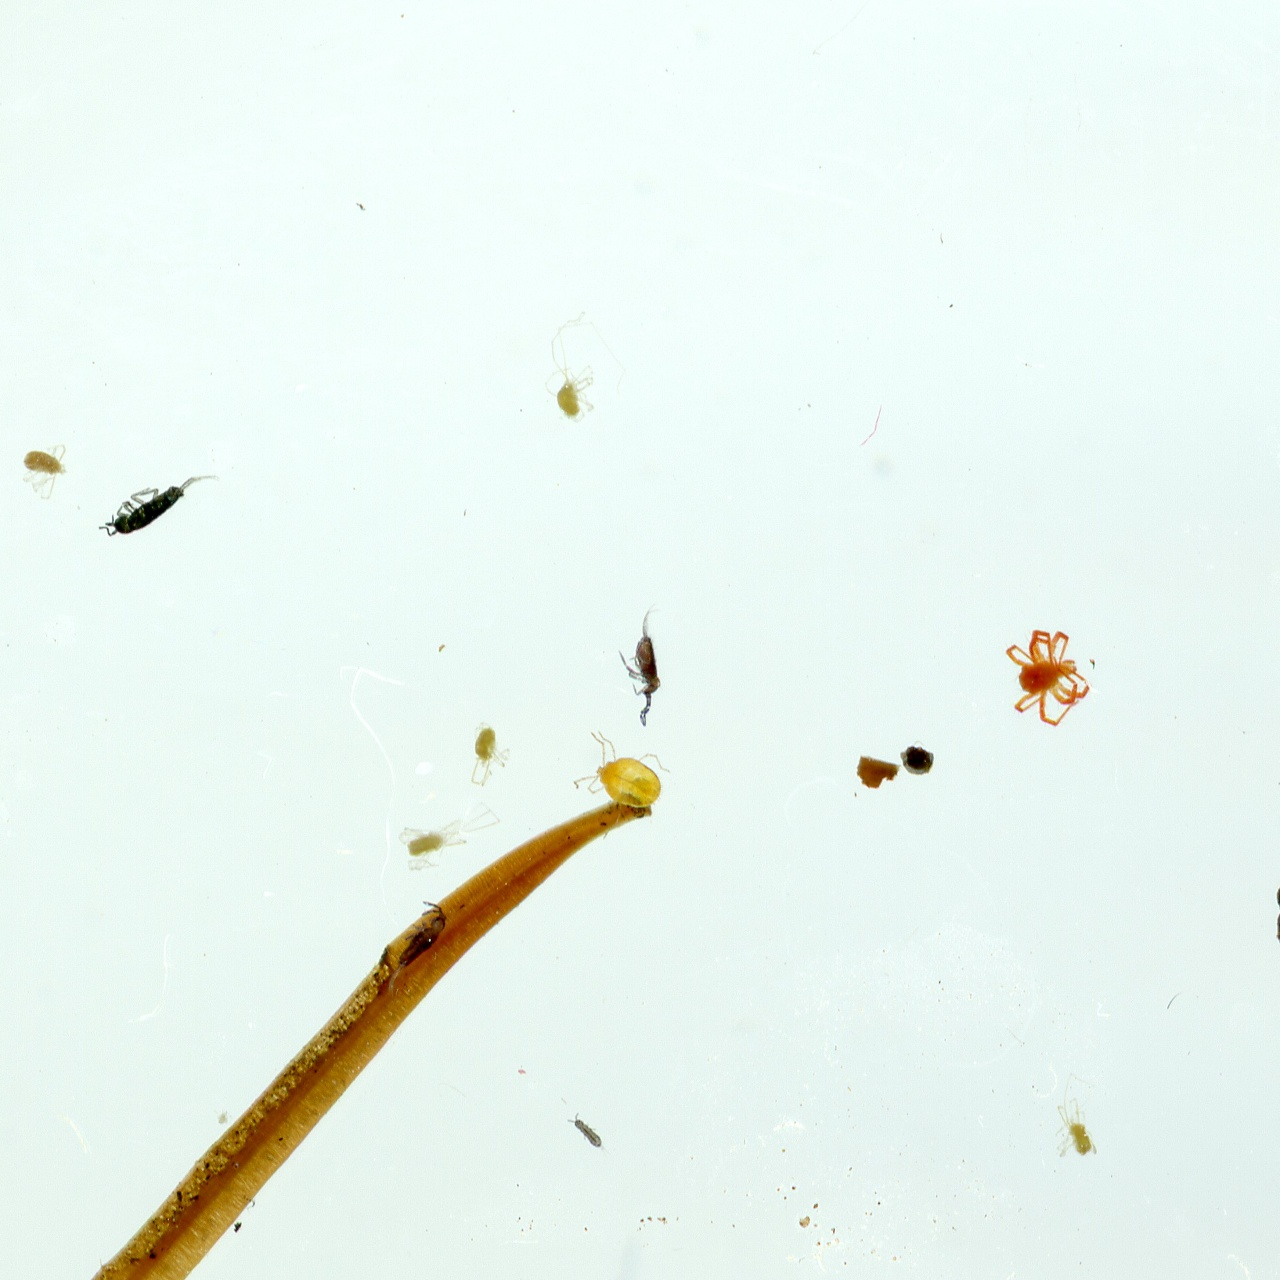arthropod: (996, 622, 1096, 734), (573, 729, 667, 840), (542, 311, 626, 424), (98, 472, 217, 539), (397, 801, 503, 873), (618, 600, 662, 729), (1054, 1074, 1098, 1159), (468, 721, 517, 789), (20, 443, 68, 499), (567, 1111, 607, 1153)
